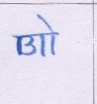o_matra: (46, 20, 58, 55)
